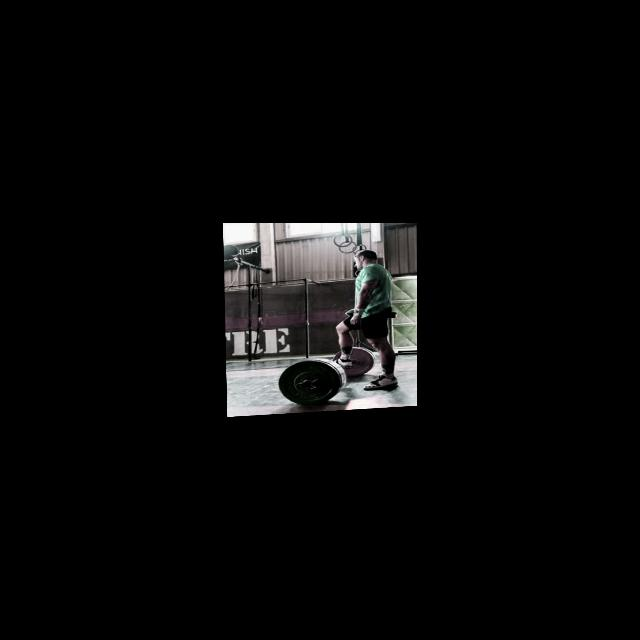barbell: (275, 359, 341, 410)
